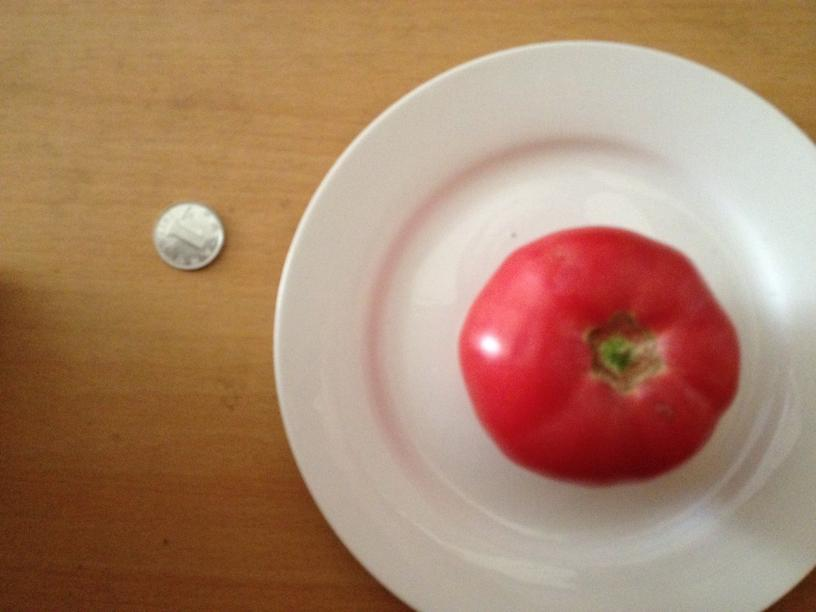coin: (148, 201, 221, 272)
tomato: (454, 228, 740, 485)
